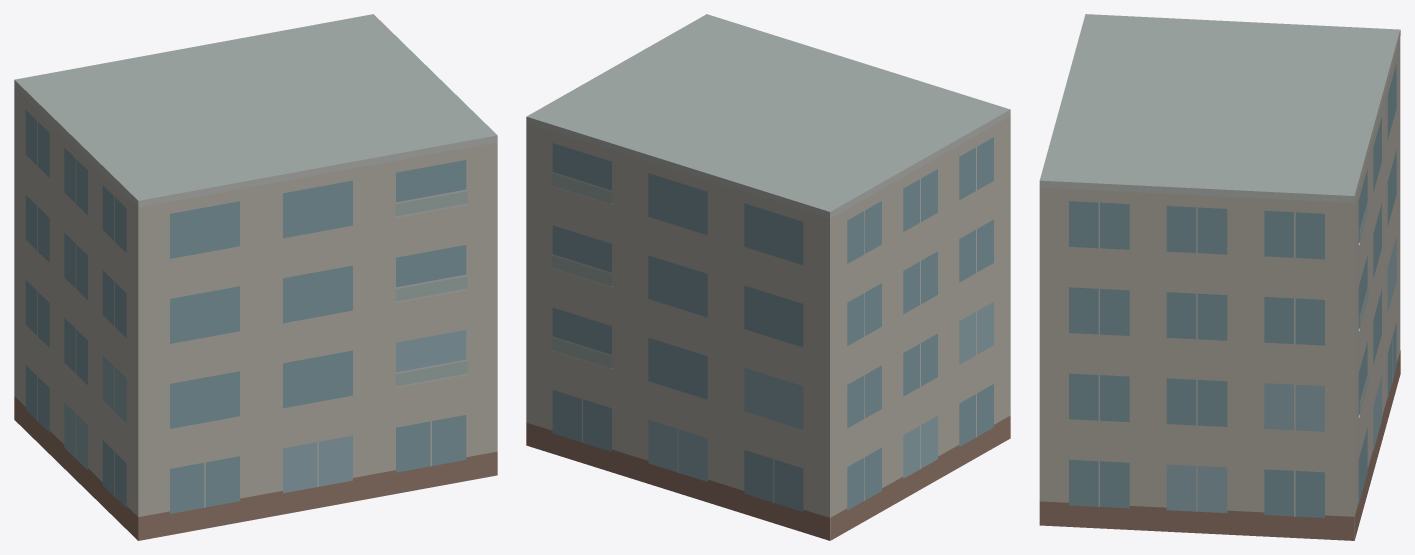
Rendered from residential-8d5d997e-e10f-4725-8c19-d350e5981d1f.glb.
3 renders of one model, left to right at view 1: azimuth 30°, elevation 25°; view 2: azimuth 150°, elevation 25°; view 3: azimuth 270°, elevation 25°, orthographic. The views are drawn at different scales.
Parts seen in each view (by area): view 1: residential-8d5d997e-e10f-4725-8c19-d350e5981d1f.tmp; view 2: residential-8d5d997e-e10f-4725-8c19-d350e5981d1f.tmp; view 3: residential-8d5d997e-e10f-4725-8c19-d350e5981d1f.tmp.
Part boxes in pixels (left/top/right/bottom): residential-8d5d997e-e10f-4725-8c19-d350e5981d1f.tmp: left=14, top=14, right=497, bottom=540; residential-8d5d997e-e10f-4725-8c19-d350e5981d1f.tmp: left=526, top=14, right=1010, bottom=540; residential-8d5d997e-e10f-4725-8c19-d350e5981d1f.tmp: left=1039, top=14, right=1400, bottom=540.
Bounding box in the file's own units: 13.82 × 12.2 × 11.58.
